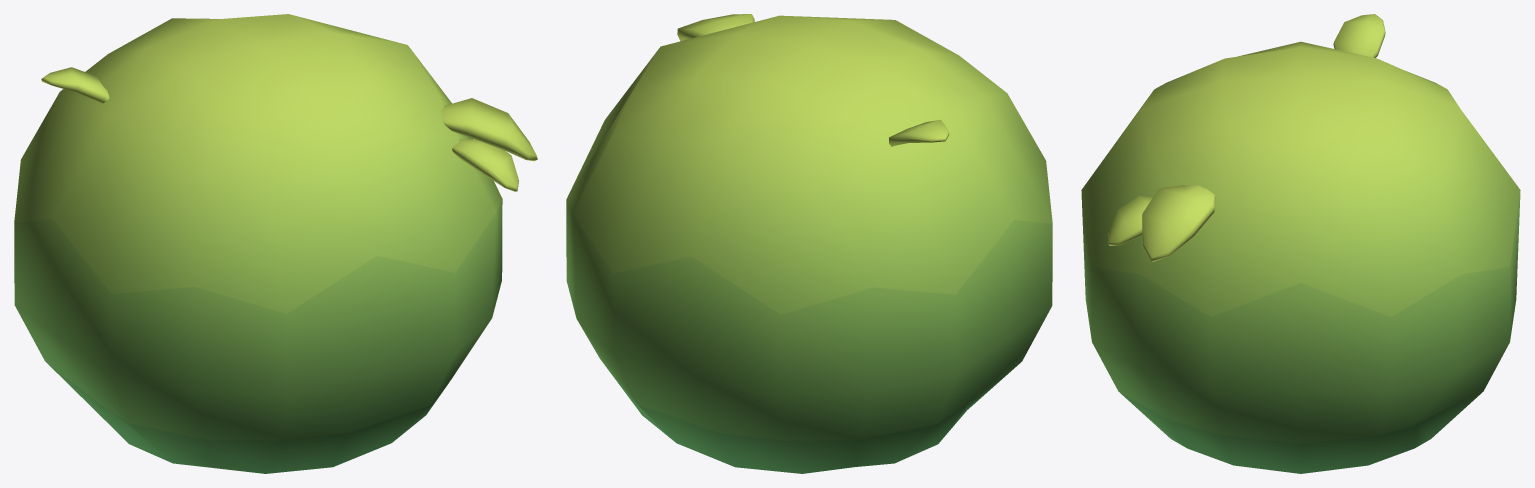
Rendered from bush 04_toon_material_0.001.glb.
3 views of the same model, side by side, from view 1: azimuth 30°, elevation 25°; view 2: azimuth 150°, elevation 25°; view 3: azimuth 270°, elevation 25° (orthographic). The views are drawn at different scales.
Parts seen in each view (by area): view 1: bush 04_toon_material_0.001; view 2: bush 04_toon_material_0.001; view 3: bush 04_toon_material_0.001.
Boxes of the visible parts, x1,y1,x2,y2 form: bush 04_toon_material_0.001: [14, 14, 537, 473]; bush 04_toon_material_0.001: [566, 14, 1052, 473]; bush 04_toon_material_0.001: [1081, 14, 1520, 473].
Size of the model in its own units: 1.12 by 0.9858 by 1.12.
1 material, 1 textured.
